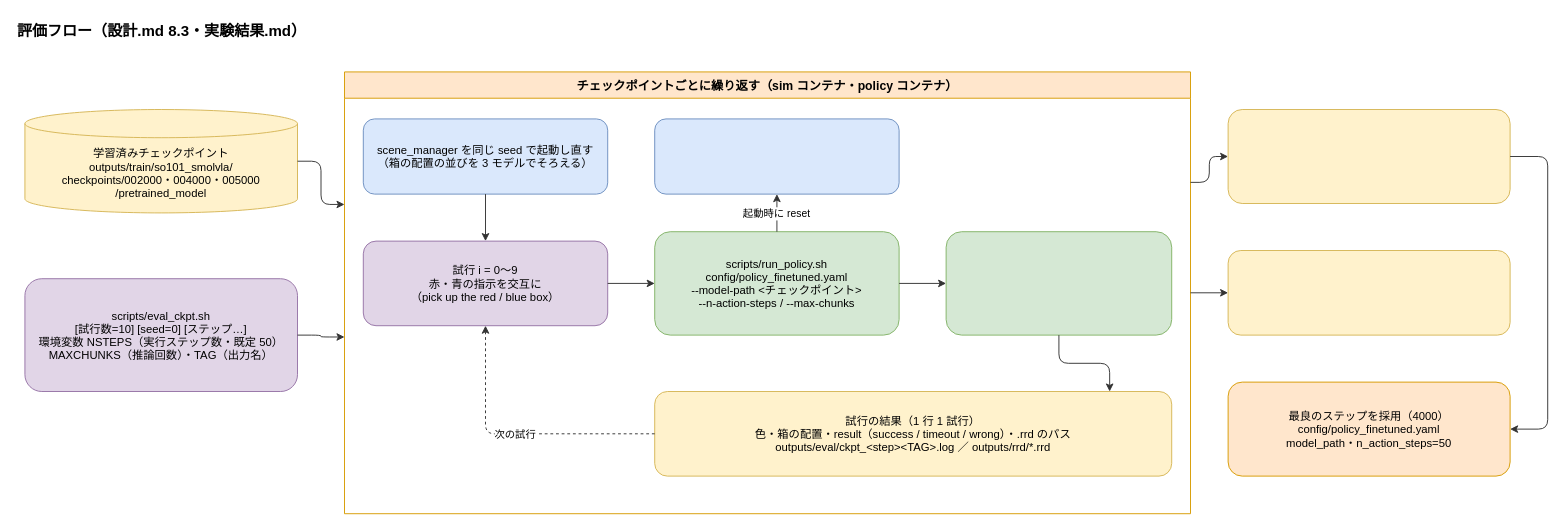
This 1563x529 diagram has some shape labels left out. Here are the shapes that lost their labels. From the top down, the centre of each, then its label:
At point (776, 156): "/scene/reset 箱を左右 2 か所＋±3cm で配置 （アームも初期姿勢へ）".
At point (1368, 156): "成功率を比べる（各 10 試行） 2000: 1/10 ・ 4000: 5/10 ・ 5000: 2/10 docs/実験結果.md".
At point (1058, 283): "vla_policy_node 推論ループ （05_推論実行フロー） success で終了 max_chunks に達したら timeout".
At point (1368, 292): "成功・失敗に分けて保管 docs/rrd/ckpt4000/success|failed/".
